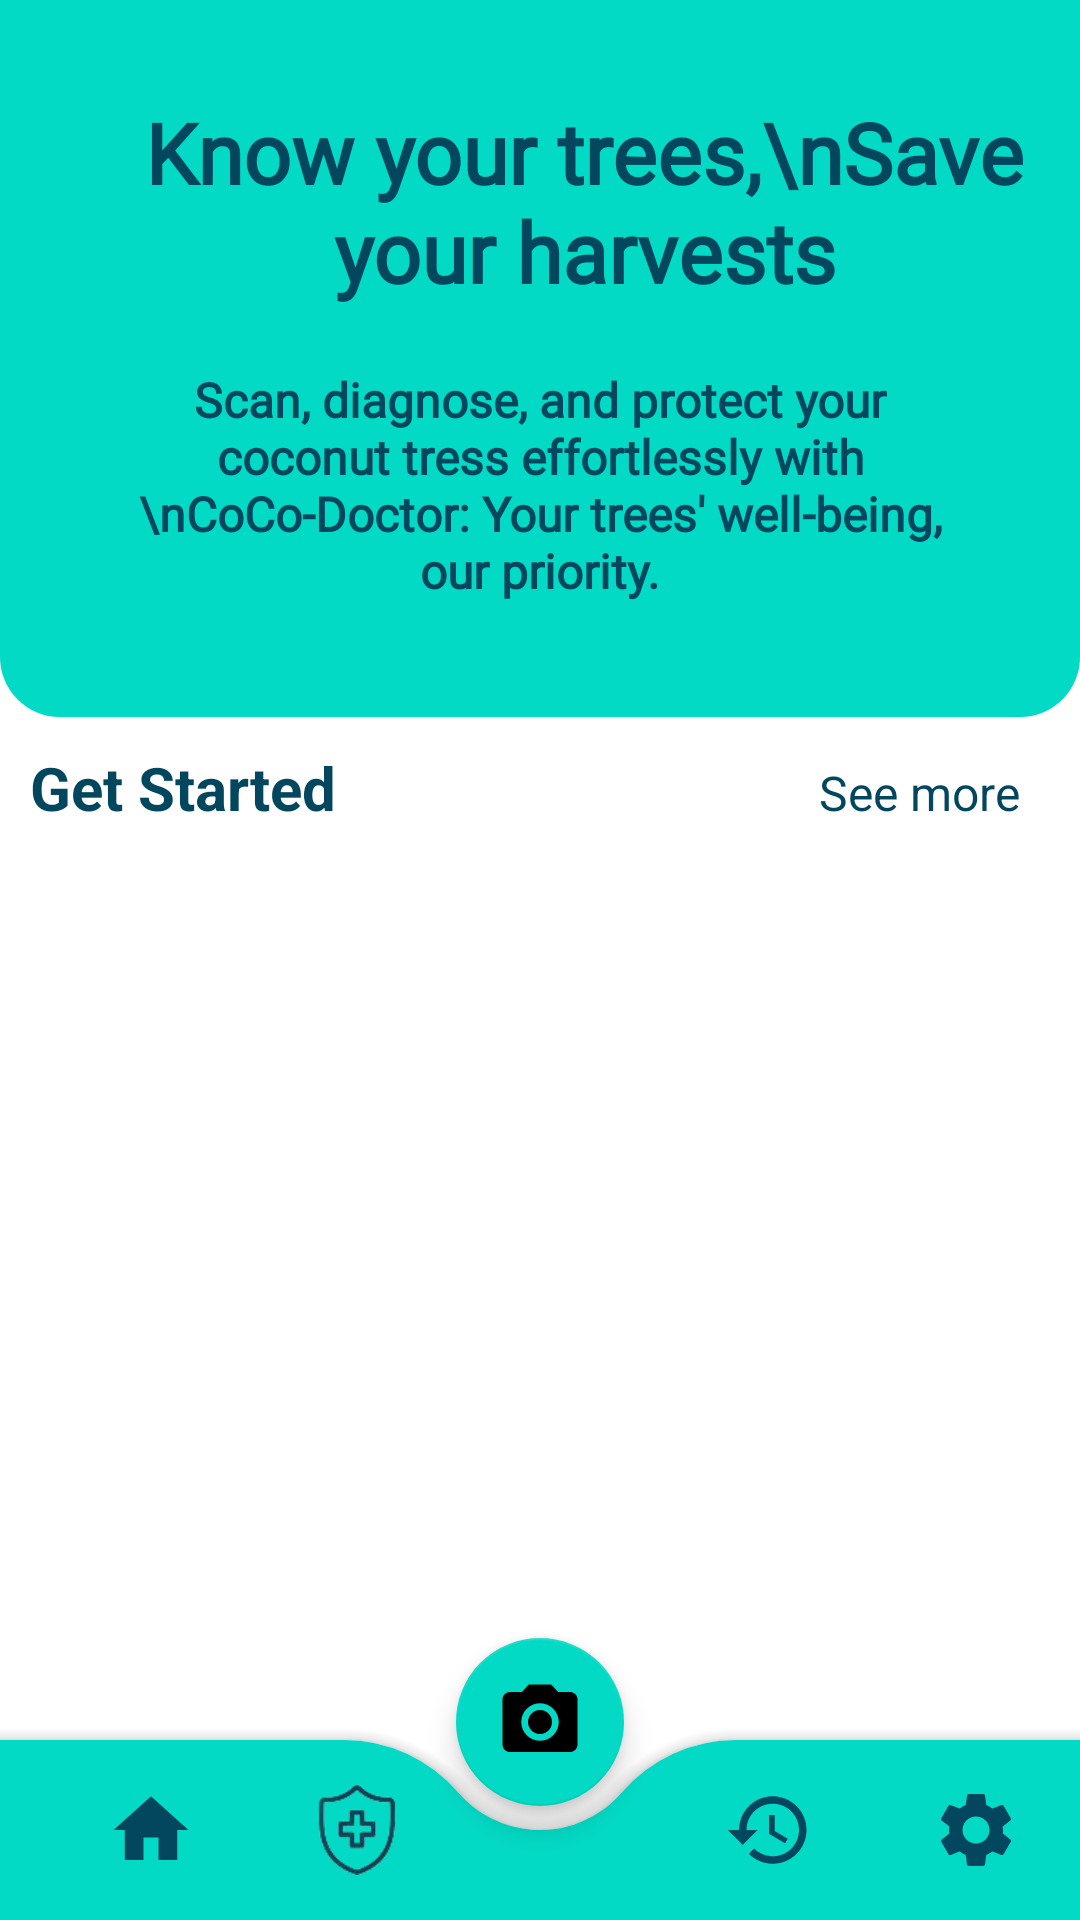

Named icons in this screenshot (1080px x 1920px) and their centers, point (x, y):
camera: point (540, 1740)
diagnose: point (357, 1830)
history: point (767, 1830)
home: point (151, 1828)
settings: point (976, 1830)
